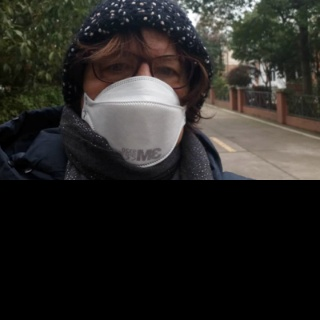with_mask: (81, 43, 191, 168)
